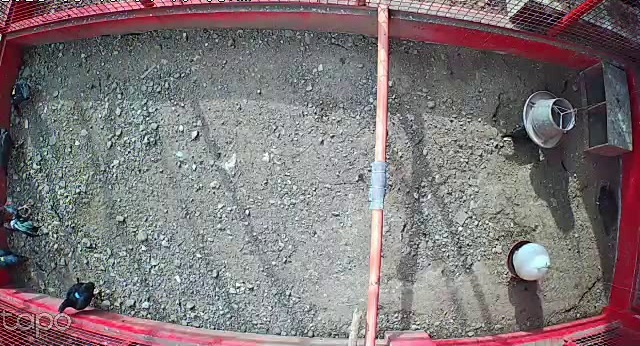Chicken: (594, 180, 622, 238), (59, 280, 96, 317), (499, 123, 539, 146), (0, 242, 30, 272), (12, 76, 34, 116)
Rooster: (0, 195, 45, 237)
Saddle_Color_Blue: (75, 291, 80, 300)
Saddle_Color_Yellow: (0, 256, 4, 262)
